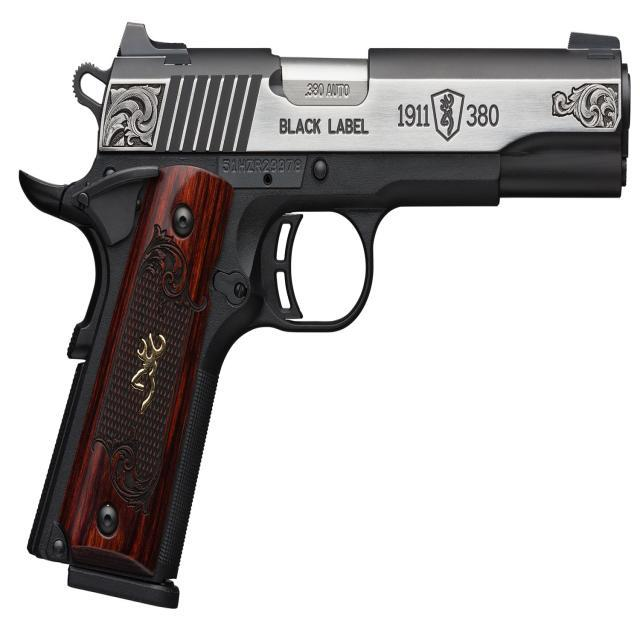Pistol: (4, 2, 640, 635)
